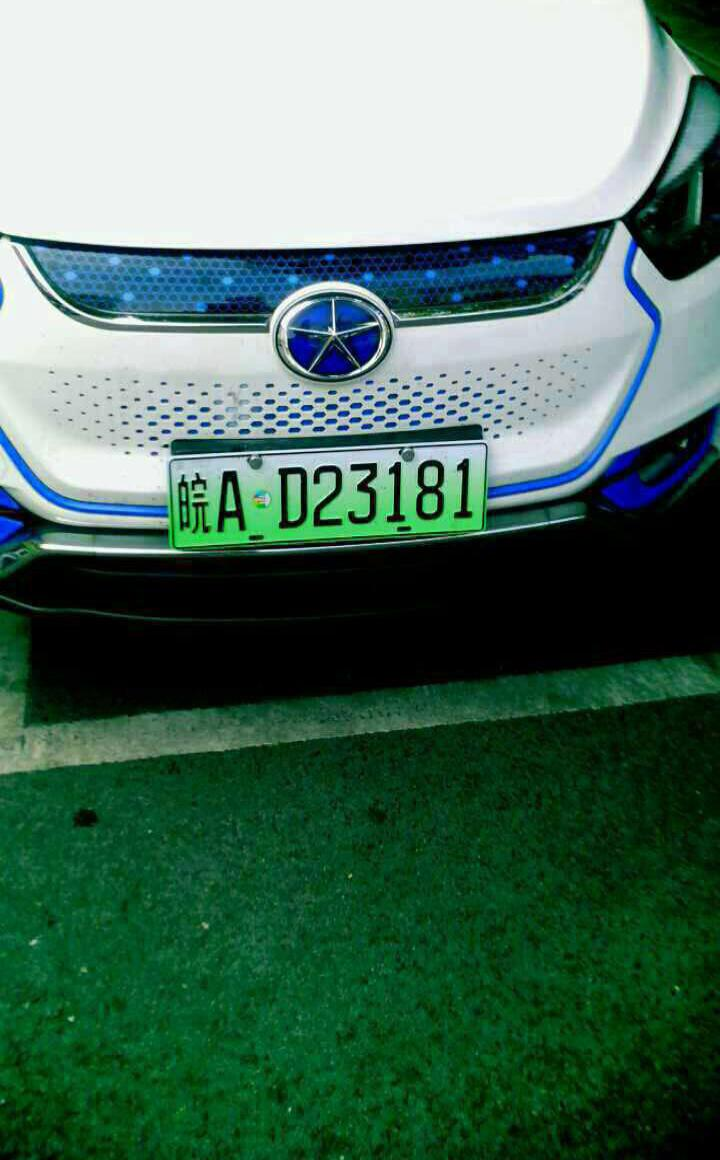car: (157, 450, 500, 544)
